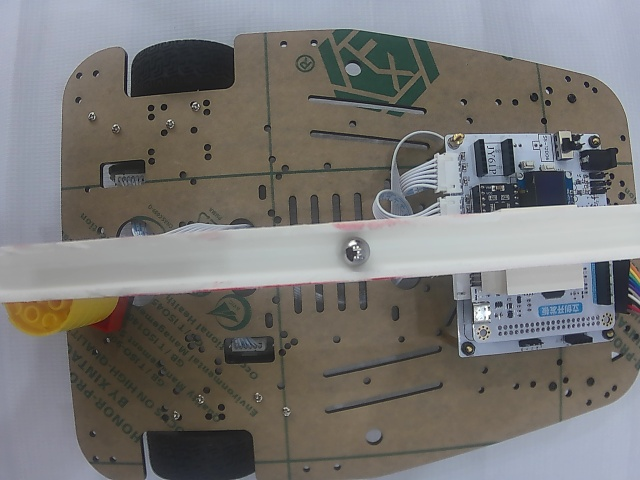steelball: (342, 237, 370, 266)
